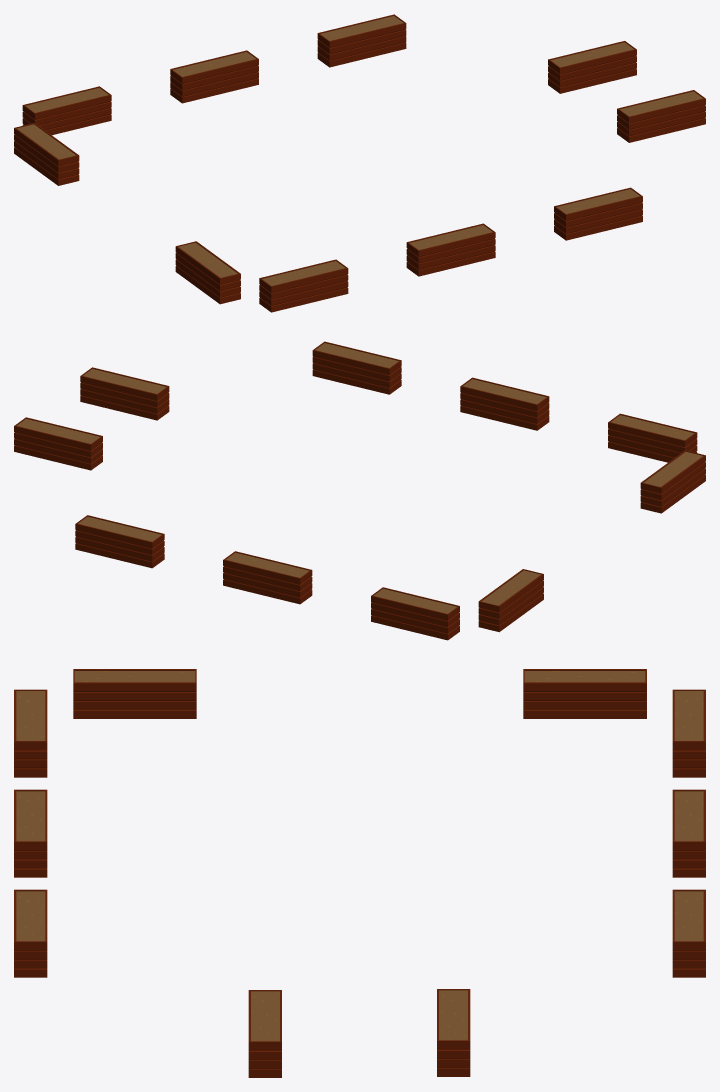
File: small planters.fbx
The picture shows the model from 3 angles, top to bottom: view 1: azimuth 30°, elevation 25°; view 2: azimuth 150°, elevation 25°; view 3: azimuth 270°, elevation 25°; orthographic projection. The views are drawn at different scales.
Parts seen in each view (by area): view 1: small planters; view 2: small planters; view 3: small planters.
Part boxes in pixels (x1,y1,x2,y2): small planters: [14, 14, 705, 312]; small planters: [14, 341, 705, 640]; small planters: [14, 669, 705, 1077].
Bounding box in the file's own units: 37.26 × 1.66 × 29.21.
